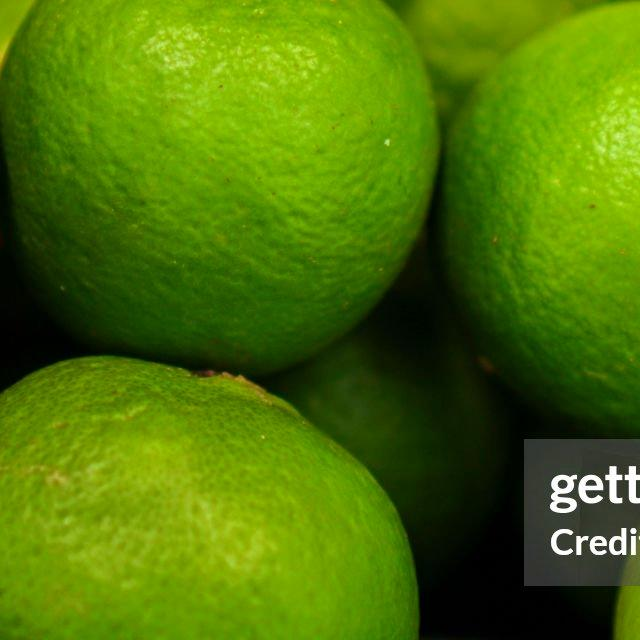lime: (0, 355, 424, 640), (435, 0, 640, 446)
